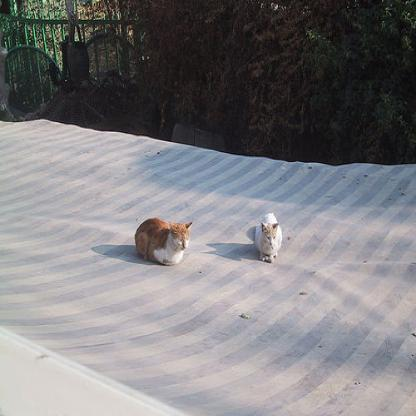cat: (133, 218, 193, 268), (253, 211, 282, 264)
